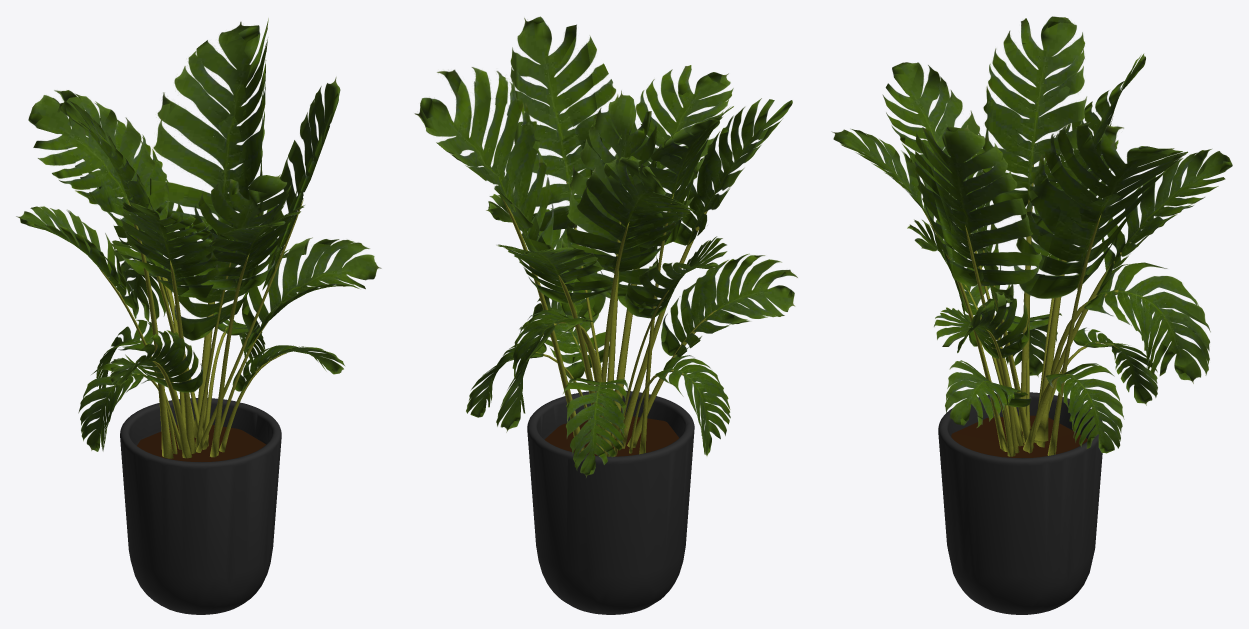
File: Plant_D.glb
3 renders of one model, left to right at view 1: azimuth 30°, elevation 25°; view 2: azimuth 150°, elevation 25°; view 3: azimuth 270°, elevation 25°, orthographic. The views are drawn at different scales.
Parts seen in each view (by area): view 1: Plant_D; view 2: Plant_D; view 3: Plant_D.
Boxes of the visible parts, x1,y1,x2,y2 form: Plant_D: [16, 18, 381, 614]; Plant_D: [414, 16, 797, 614]; Plant_D: [831, 16, 1232, 614].
Bounding box in the file's own units: 0.7451 × 1.25 × 0.8619.
Materials: 4 (3 with a texture image).
